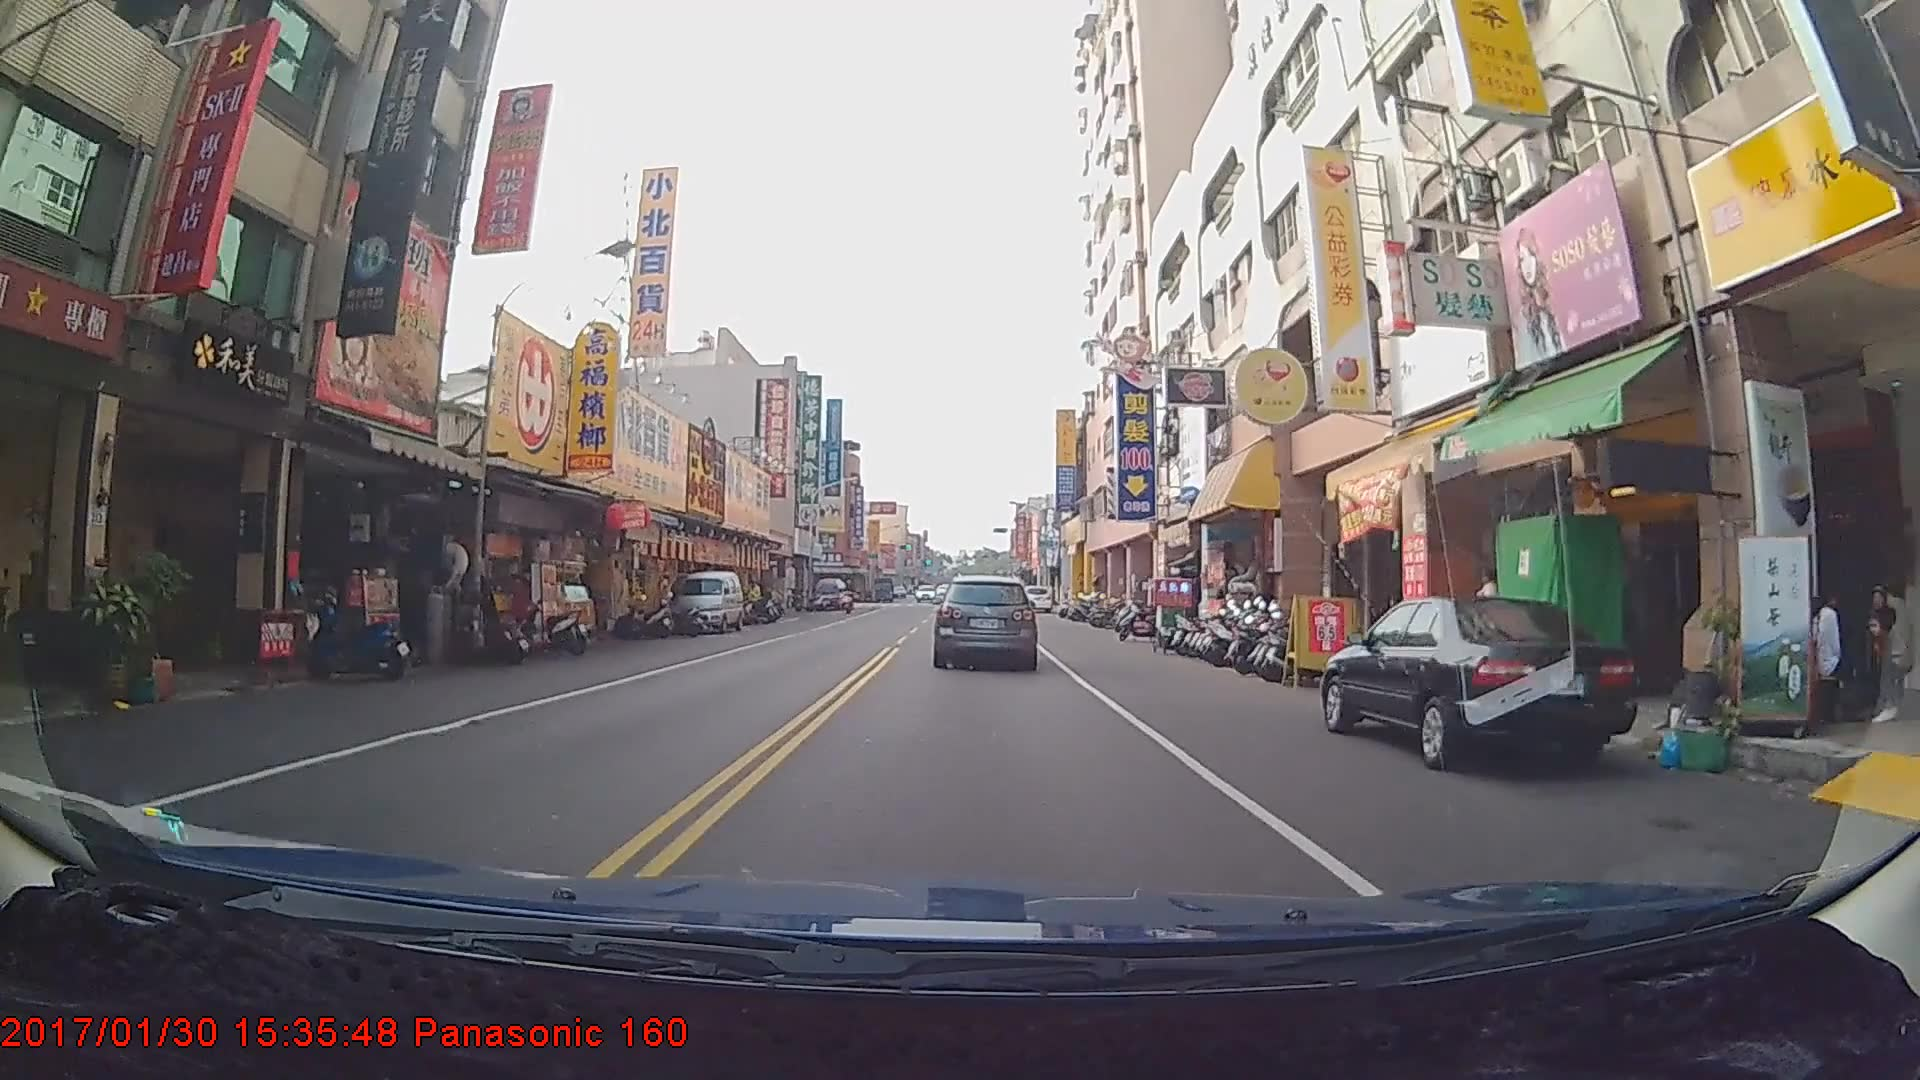pedestrian: (1813, 581, 1868, 721), (1866, 581, 1918, 723)
vehicle: (1322, 590, 1634, 768), (936, 575, 1036, 668), (671, 568, 743, 632), (814, 572, 844, 605), (1019, 578, 1051, 606)
